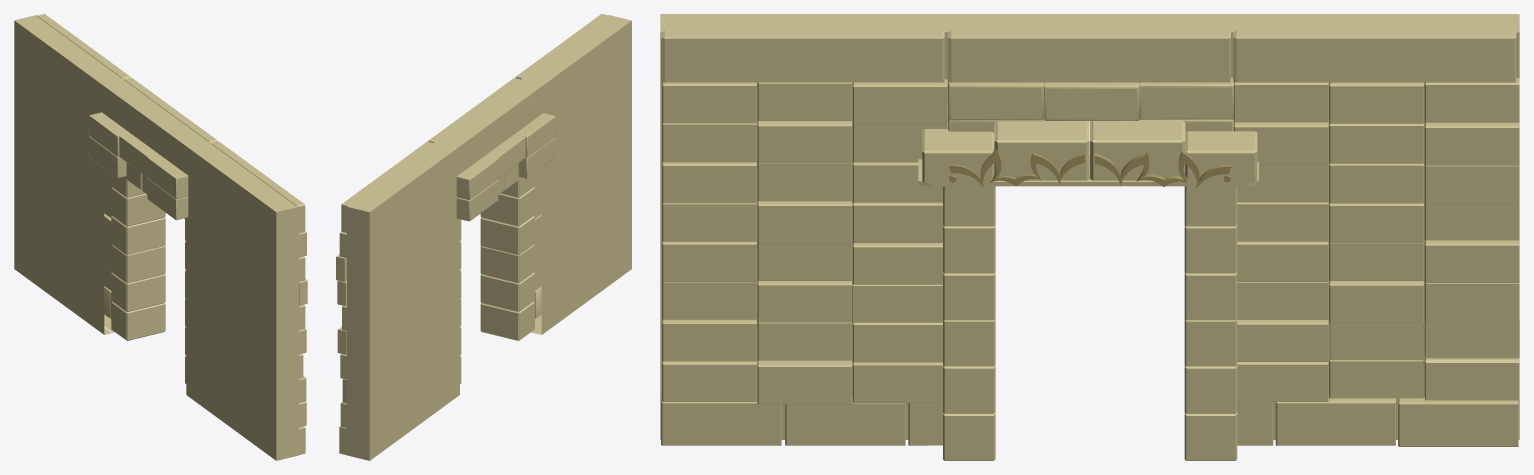
The model's file is Wall-2.fbx.
3 views of the same model, side by side, from view 1: azimuth 30°, elevation 25°; view 2: azimuth 150°, elevation 25°; view 3: azimuth 270°, elevation 25° (orthographic). The views are drawn at different scales.
Visible parts, largest first — view 1: 立方体_1; view 2: 立方体_1; view 3: 立方体_1.
Part boxes in pixels (left/top/right/bottom): 立方体_1: left=14, top=14, right=307, bottom=460; 立方体_1: left=336, top=14, right=631, bottom=460; 立方体_1: left=660, top=14, right=1519, bottom=460.
Size of the model in its own units: 198 by 635 by 1209.
